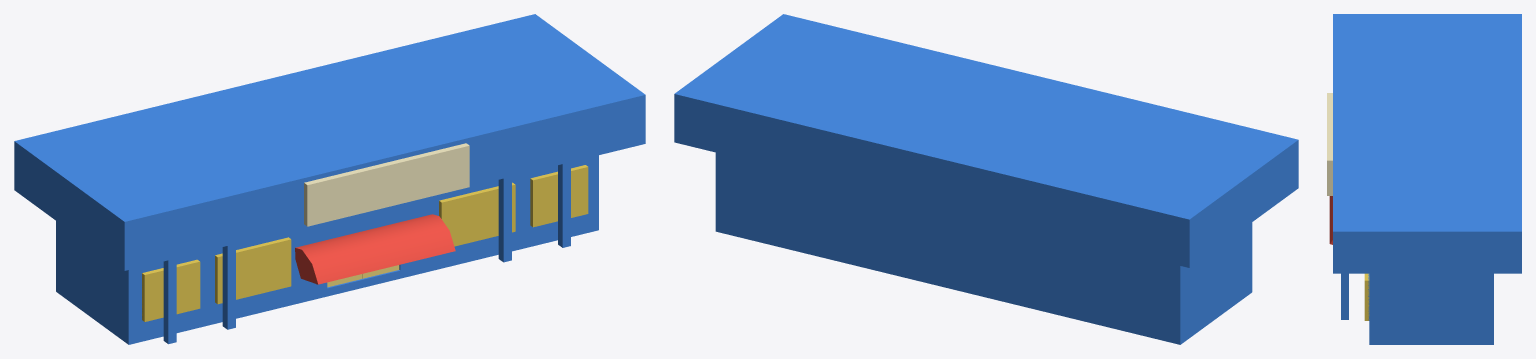
The model's file is super.fbx.
The picture shows the model from 3 angles, left to right: view 1: azimuth 30°, elevation 25°; view 2: azimuth 150°, elevation 25°; view 3: azimuth 270°, elevation 25°; orthographic projection. The views are drawn at different scales.
Parts seen in each view (by area): view 1: super, window, sign, roof; view 2: super; view 3: super, sign, window, roof.
Boxes of the visible parts, x1=… form: super: x1=14, y1=14, x2=645, y2=344; window: x1=142, y1=165, x2=588, y2=321; sign: x1=304, y1=143, x2=469, y2=226; roof: x1=295, y1=214, x2=455, y2=284; super: x1=674, y1=14, x2=1298, y2=344; super: x1=1333, y1=14, x2=1521, y2=344; sign: x1=1327, y1=93, x2=1332, y2=195; window: x1=1364, y1=273, x2=1369, y2=320; roof: x1=1329, y1=196, x2=1332, y2=244.
Size of the model in its own units: 7581 by 2014 by 2869.
